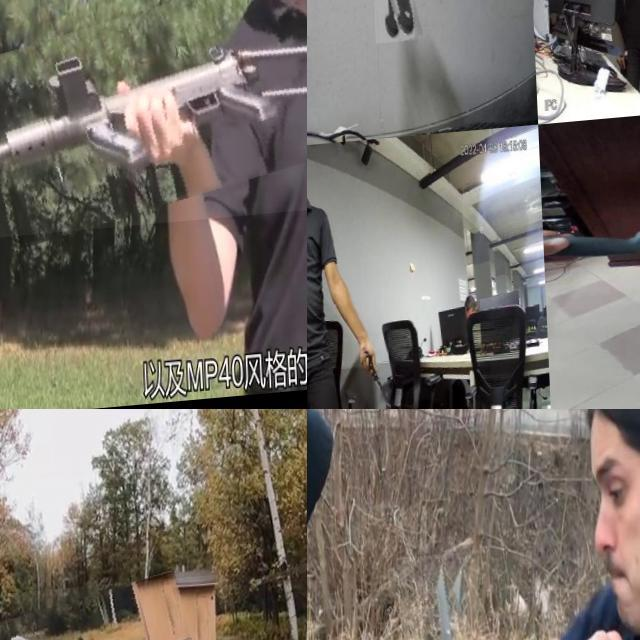-: (394, 559, 483, 640), (368, 0, 412, 80), (363, 363, 386, 409)
gun-knife-thesis - v11 Yolov5 augmented: (0, 0, 307, 242)
